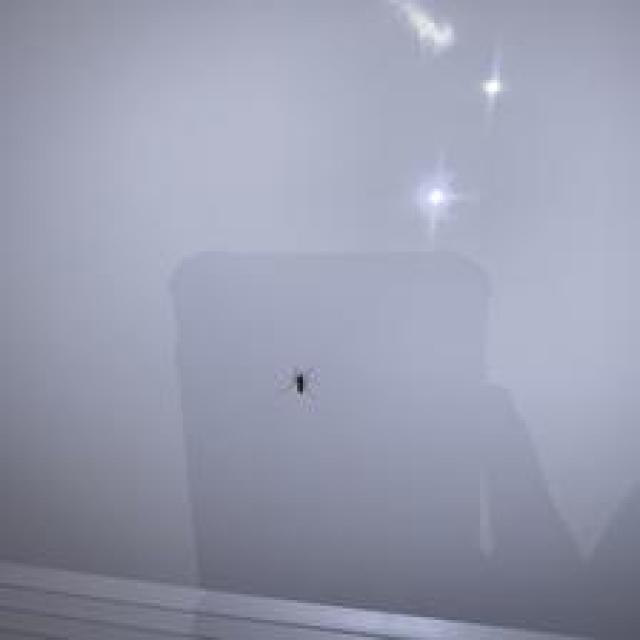Culex: (294, 372, 306, 394)
